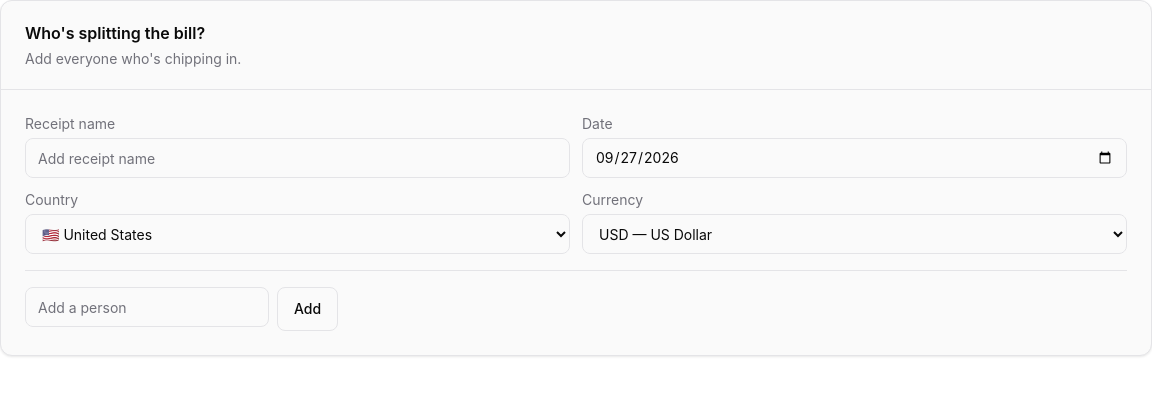
Test case: PeopleManager › shows a wildcard error while typing an invalid draft name
The width and height of the screenshot is (1152, 394).
Type "Bo*b" into the field named "New person name". click: (147, 307)
box: [25,287,269,327]
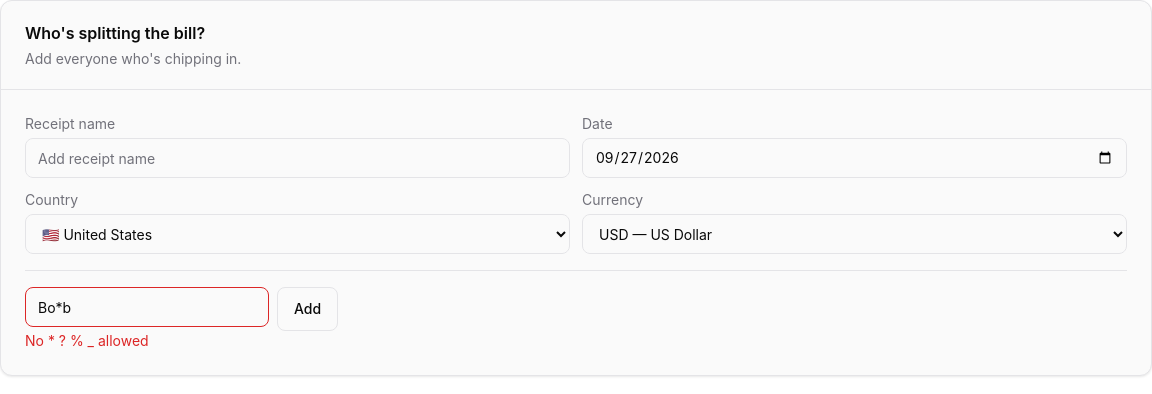
Expected: the message reads "No * ? % _ allowed", [25,332,149,349]
